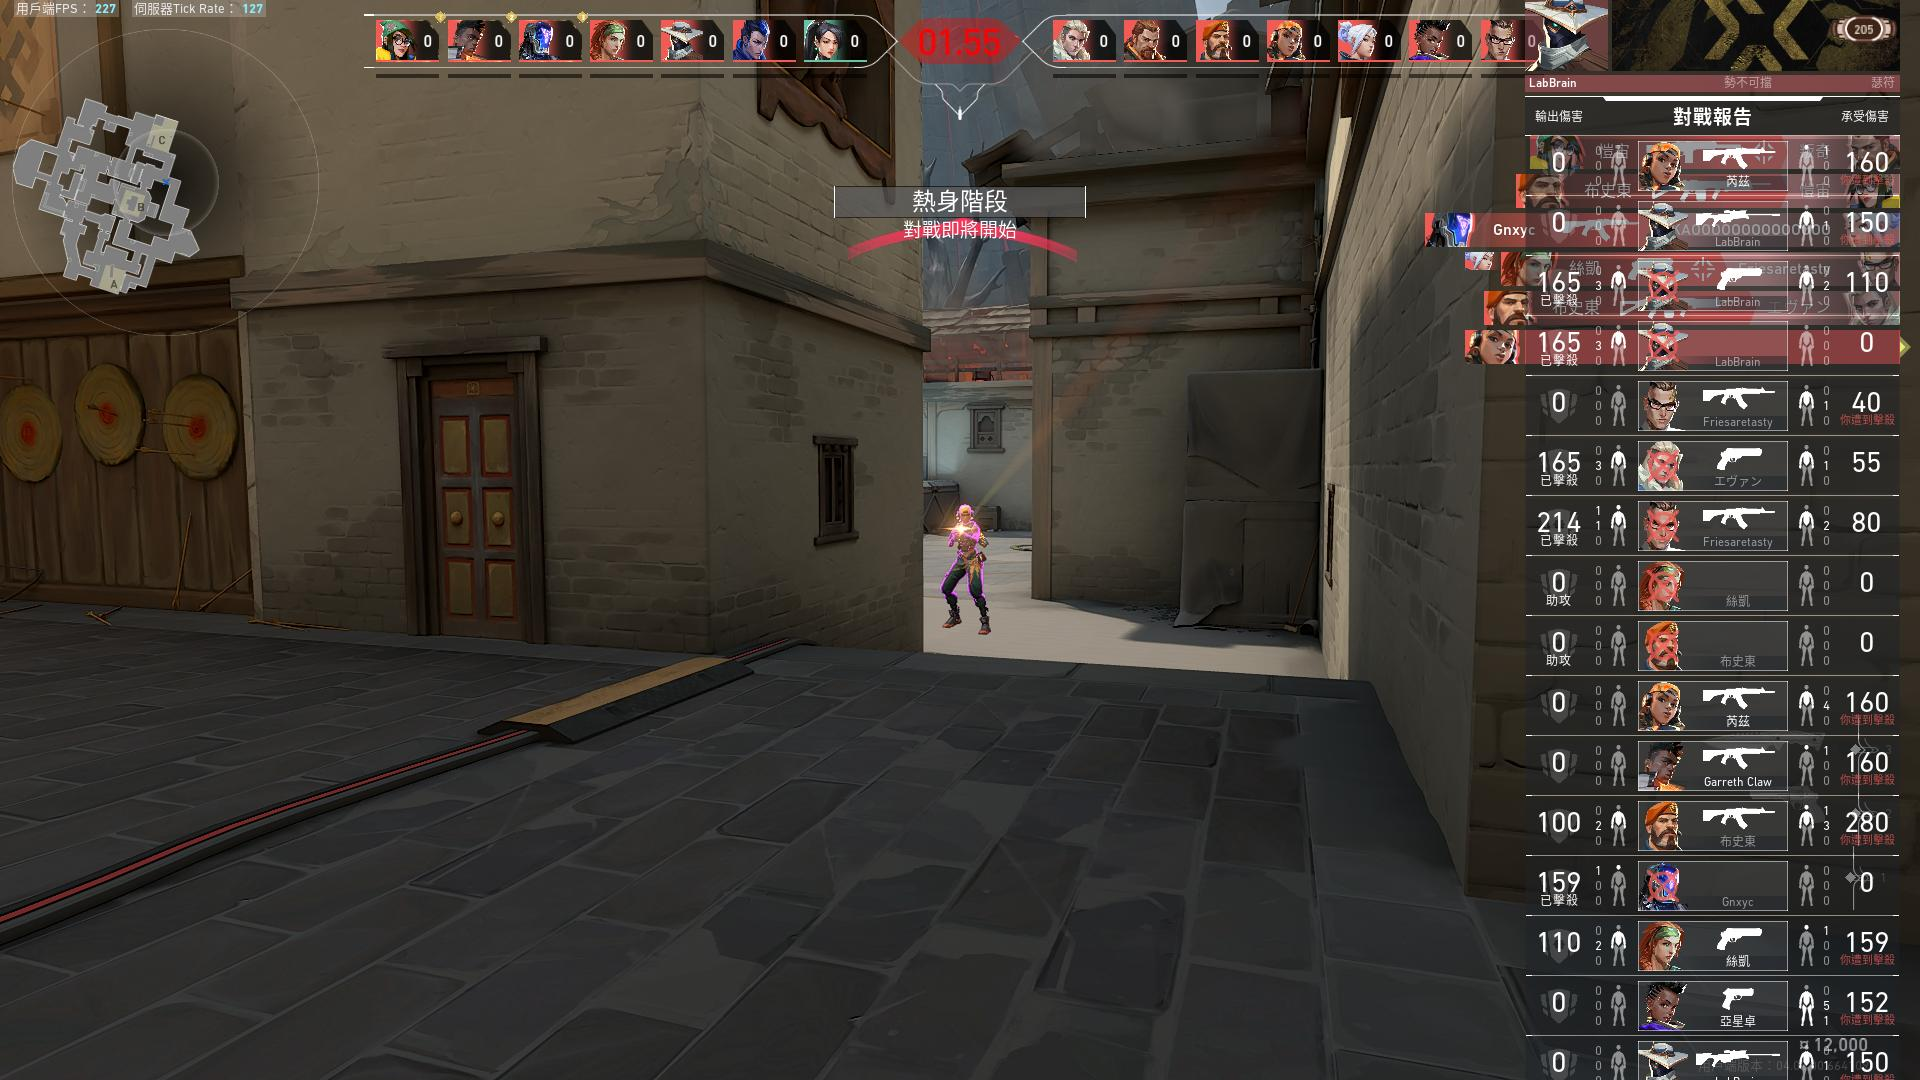enemyBody: (957, 526, 973, 556)
enemyHead: (959, 510, 971, 525)
